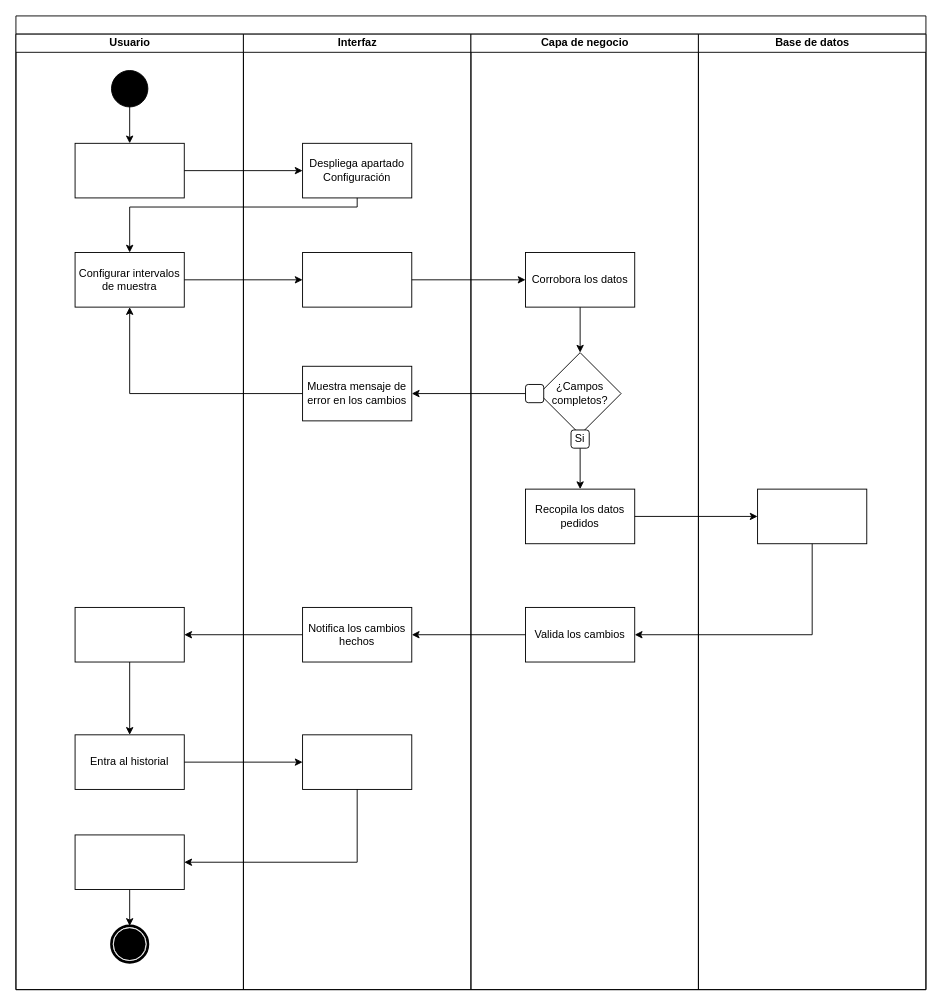
This 942x1006 diagram has some shape labels left out. The shapes that lost their labels are listed below. From the top down, each one's box as (x1, y1, x2, y2) in pixels, then its label:
(74, 142, 184, 198): Seleccionar apartado configuración intervalos
(302, 252, 412, 307): Botón guardar configuración
(525, 384, 544, 403): No
(757, 488, 867, 544): Trae los datos pedidos
(74, 607, 184, 662): Visualiza los cambios
(302, 734, 412, 789): Muestra el historial de los cambios
(74, 834, 184, 890): Visualiza el historial
